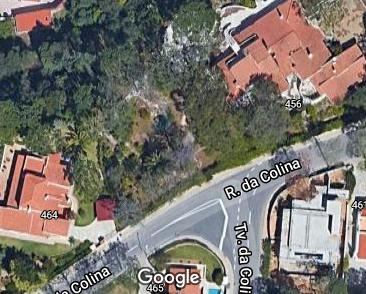pool: (207, 288, 224, 293)
